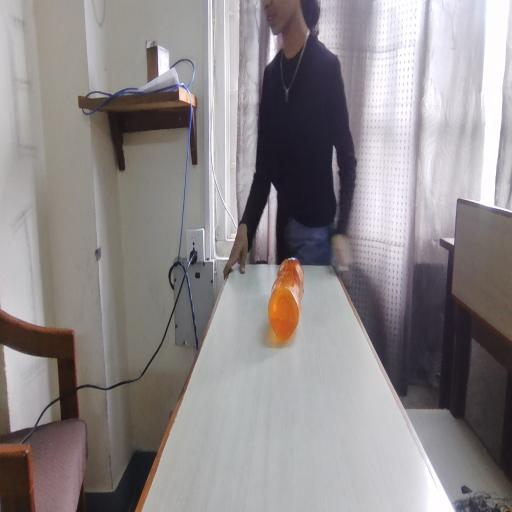Bottle: (268, 229, 308, 367)
